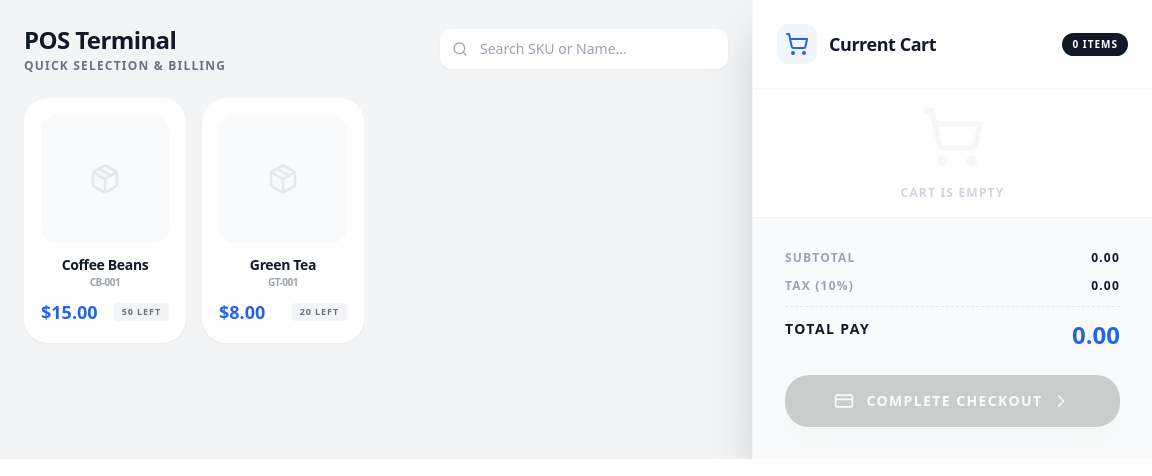
Test case: POSPage — Story 10.2: POS Interface UI › adds a product to the cart when clicked
Expected: the heading "Coffee Beans" is shown, [62,255,148,274]
Click the text "Coffee Beans" at (105,220), box [24,98,186,343]
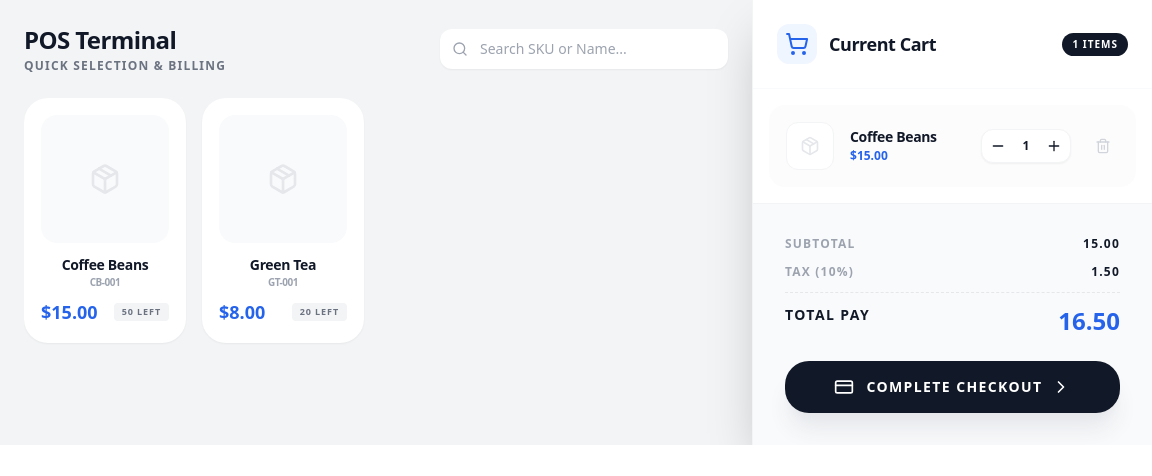
Expected: the text "1 Items" is shown, [1062,32,1128,56]
